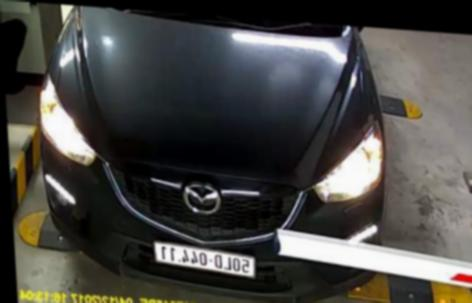License_Plate: (150, 236, 262, 280)
